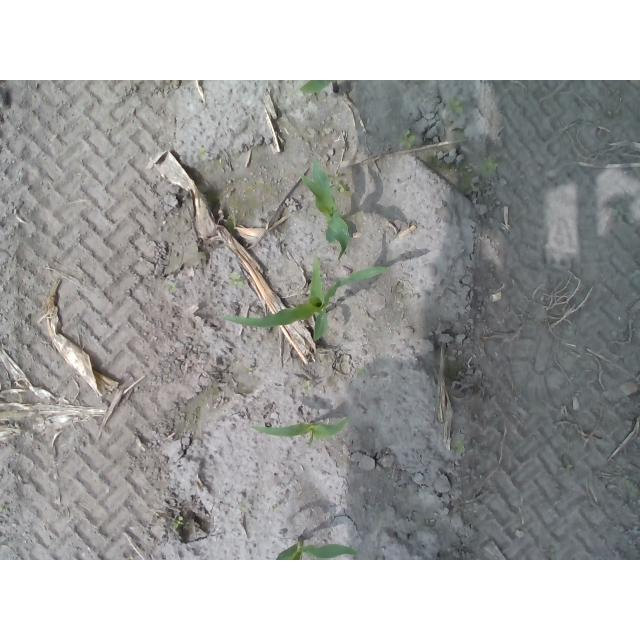Maize: (223, 257, 388, 343), (302, 158, 351, 262), (253, 415, 351, 441), (275, 534, 361, 560), (300, 81, 334, 96)
Weeds: (398, 128, 416, 151), (451, 436, 467, 457), (448, 98, 464, 115), (232, 272, 244, 288), (483, 161, 497, 172), (333, 182, 345, 193), (174, 515, 183, 528), (168, 283, 177, 294)
